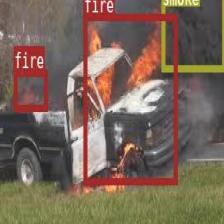fire: (83, 13, 176, 183), (14, 69, 47, 111)
smoke: (160, 0, 224, 71)
